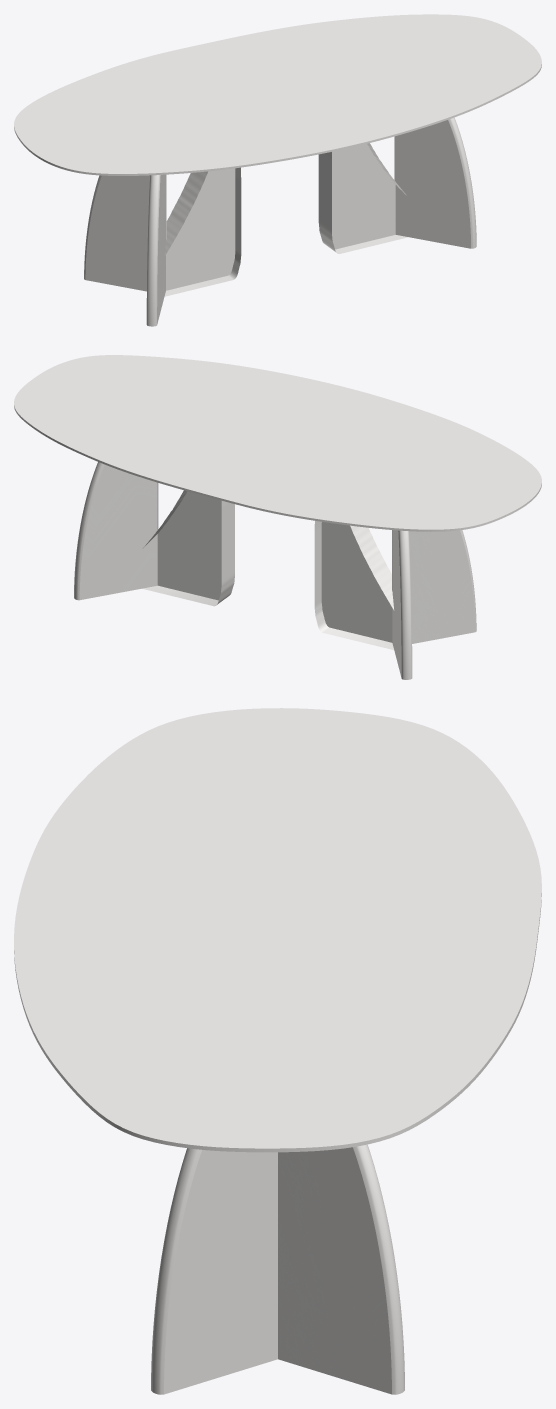
File: purewhite_danish_facet_plane.glb
3 views of the same model, one above another, from view 1: azimuth 30°, elevation 25°; view 2: azimuth 150°, elevation 25°; view 3: azimuth 270°, elevation 25° (orthographic). The views are drawn at different scales.
Visible parts, largest first — view 1: facet_danish, plane_singleright2, plane_single1, plane_single2, plane_singleleft1, plane_singleright1; view 2: facet_danish, plane_singleleft2, plane_single1, plane_single2, plane_singleright1, plane_singleleft1; view 3: facet_danish, plane_singleleft2, plane_singleright2.
Boxes of the visible parts, x1,y1,x2,y2 form: facet_danish: (14,14,541,175); plane_singleright2: (394,117,476,248); plane_single1: (164,167,241,296); plane_single2: (318,143,408,253); plane_singleleft1: (84,174,166,291); plane_singleright1: (146,174,165,326); facet_danish: (14,355,541,531); plane_singleleft2: (74,462,157,600); plane_single1: (314,521,394,649); plane_single2: (142,490,234,606); plane_singleright1: (392,530,476,643); plane_singleleft1: (392,530,412,679); facet_danish: (14,708,541,1152); plane_singleleft2: (278,1144,404,1394); plane_singleright2: (151,1148,277,1394).
Size of the model in its own units: 7.5 by 2.5 by 3.8.
1 material, 1 textured.
